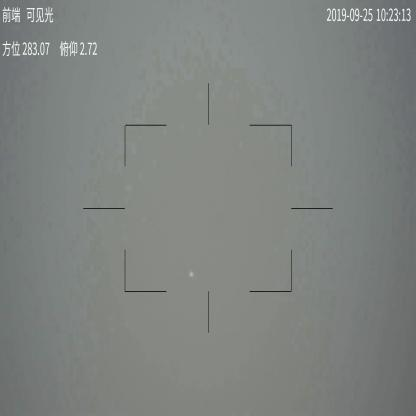uav: (188, 270, 195, 278)
